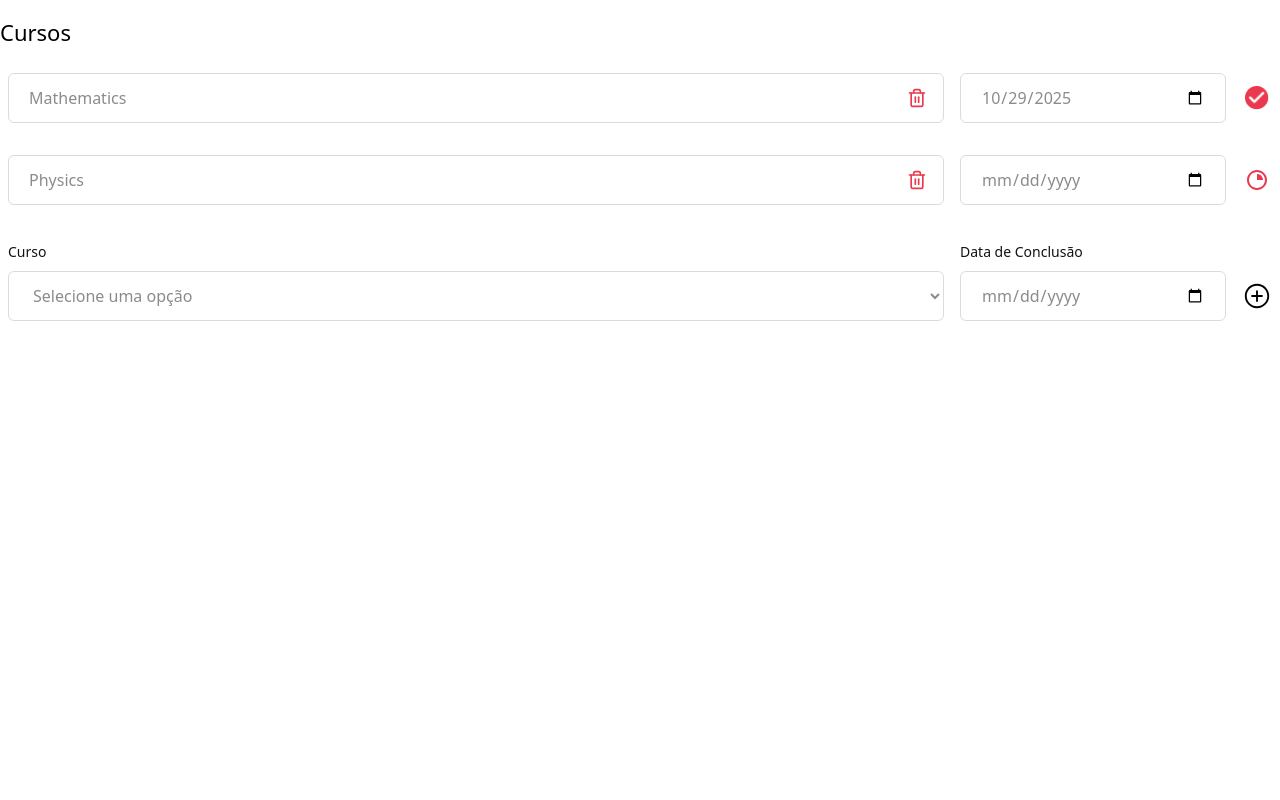
Test case: Componente StudentCoursesManager › Remover curso › deve cancelar remoção
The width and height of the screenshot is (1280, 800).
Click the 1st button named "remover curso": [917, 98] box [902, 83, 932, 113]
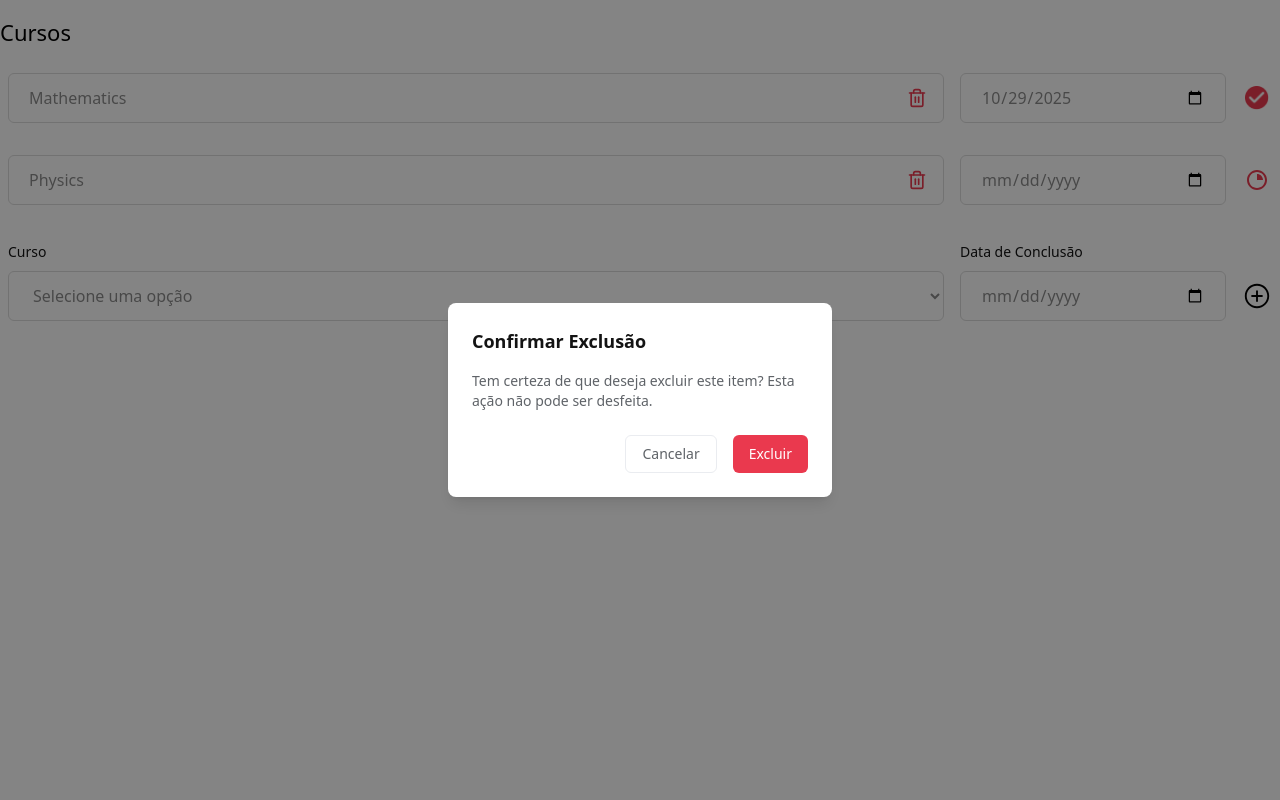
Click the button "Cancelar": [671, 454] box [626, 435, 717, 473]
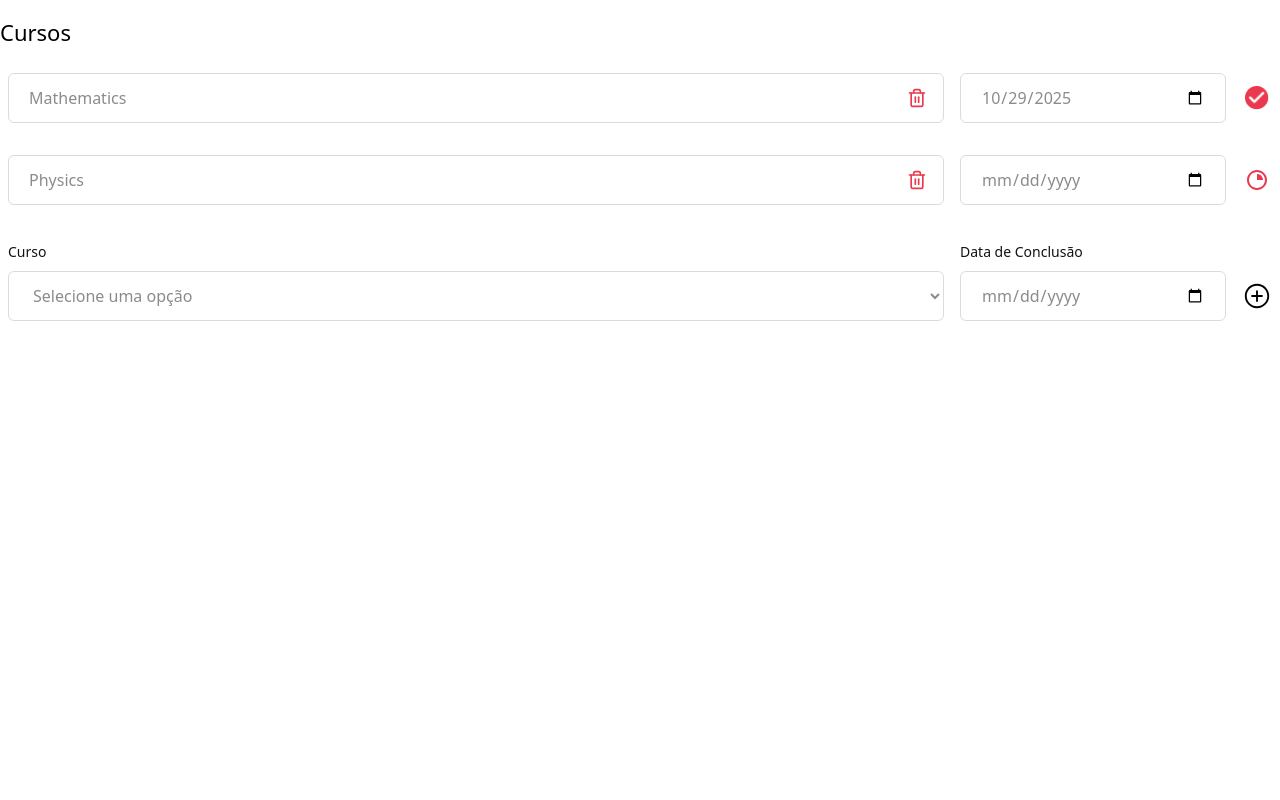
Check: the heading "Confirmar Exclusão" is gone
